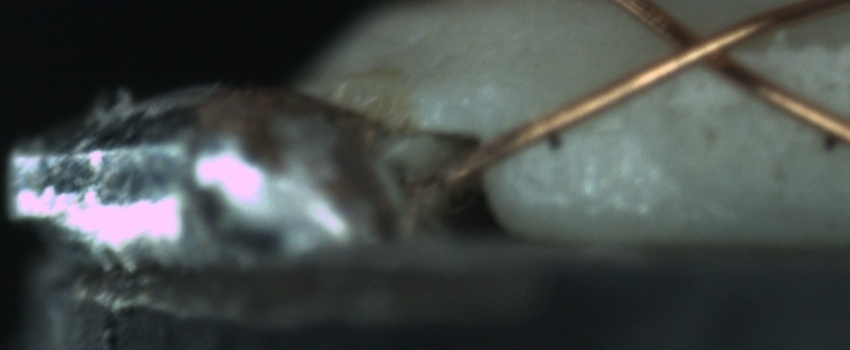CL: (646, 10, 759, 83)
